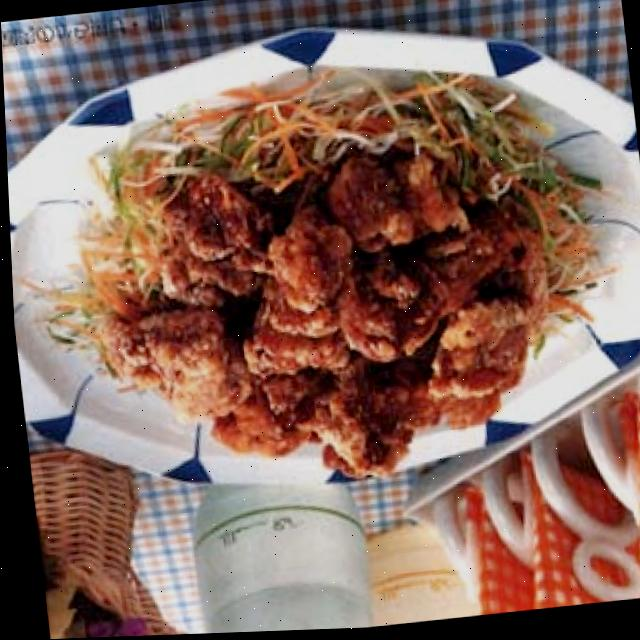鸡肉料理 含炸鸡: (3, 55, 640, 558)
